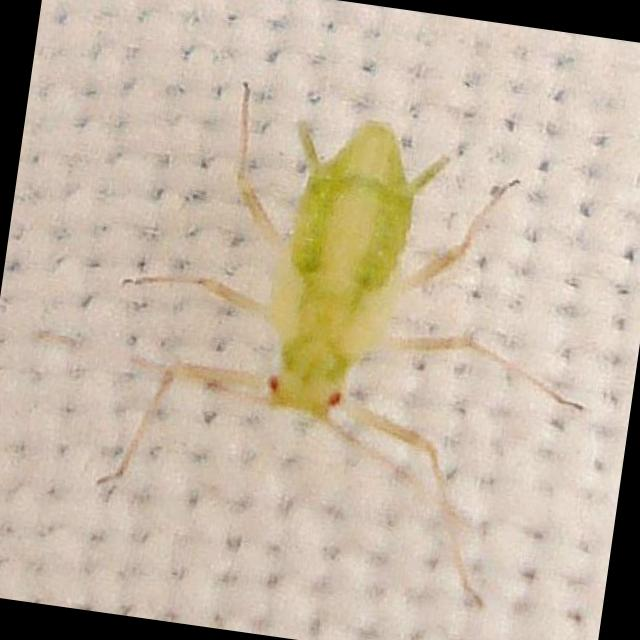aphid: (100, 46, 598, 585)
